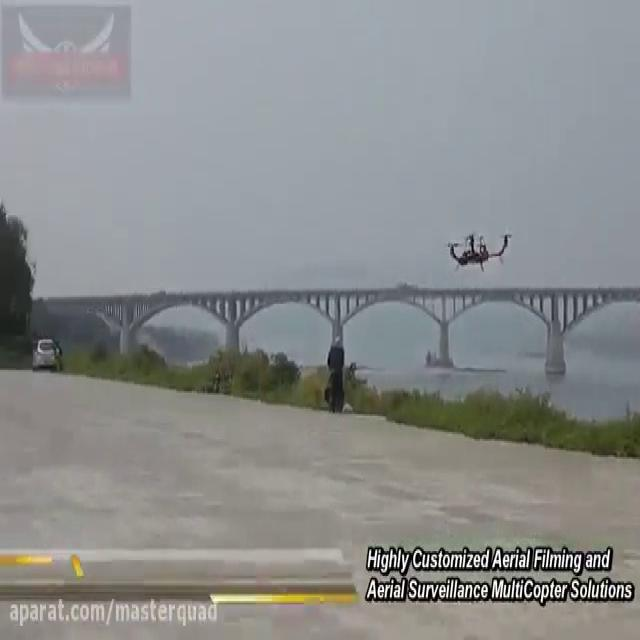drone: (442, 226, 512, 272)
